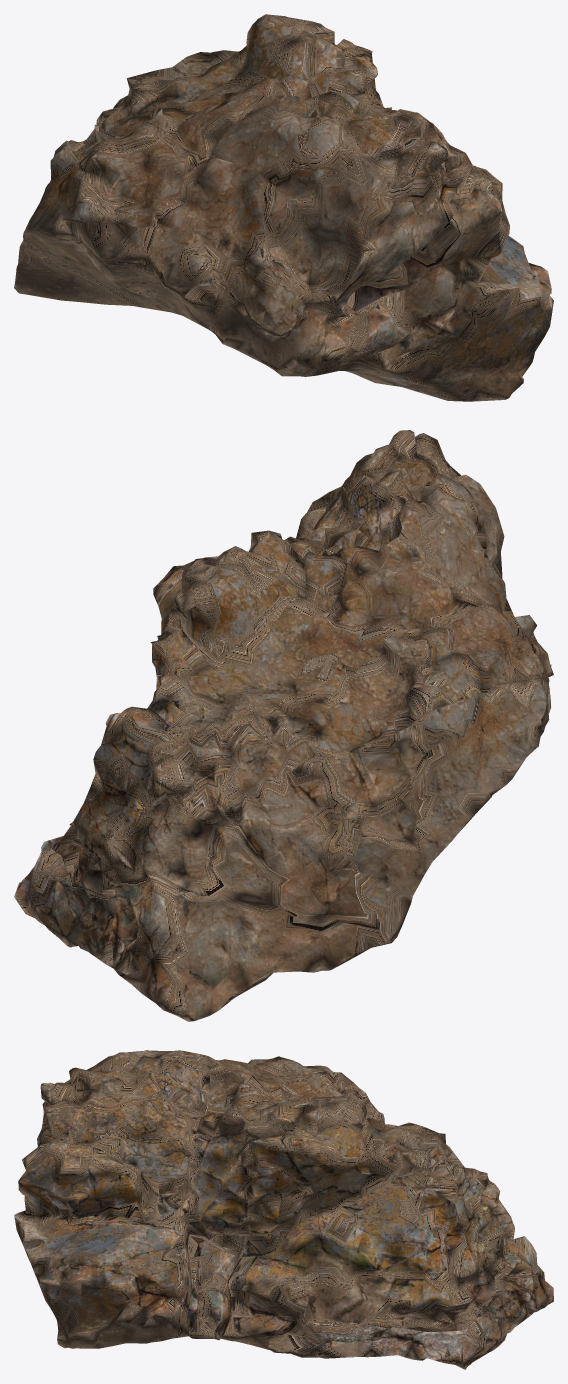
Rendered from ph_boulder_01.glb.
3 renders of one model, top to bottom at view 1: azimuth 30°, elevation 25°; view 2: azimuth 150°, elevation 25°; view 3: azimuth 270°, elevation 25°, orthographic. The views are drawn at different scales.
Bounding box in the file's own units: 1.27 × 0.9955 × 1.82.
Materials: 1 (1 with a texture image).
